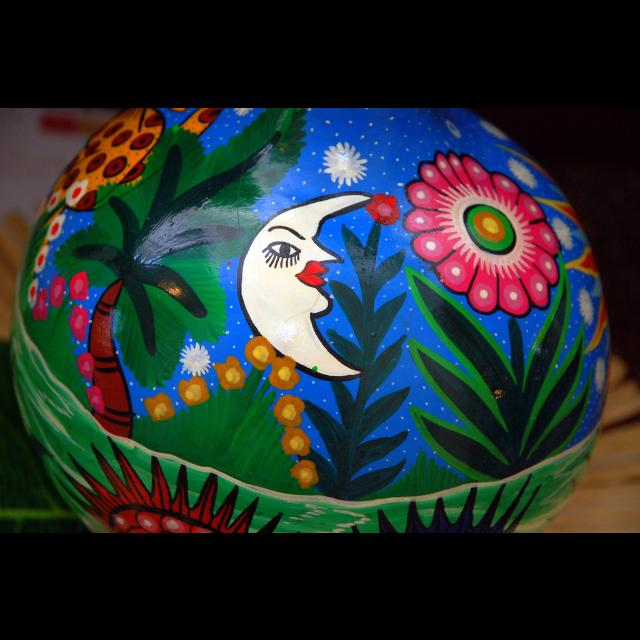Flower: (408, 144, 592, 322)
